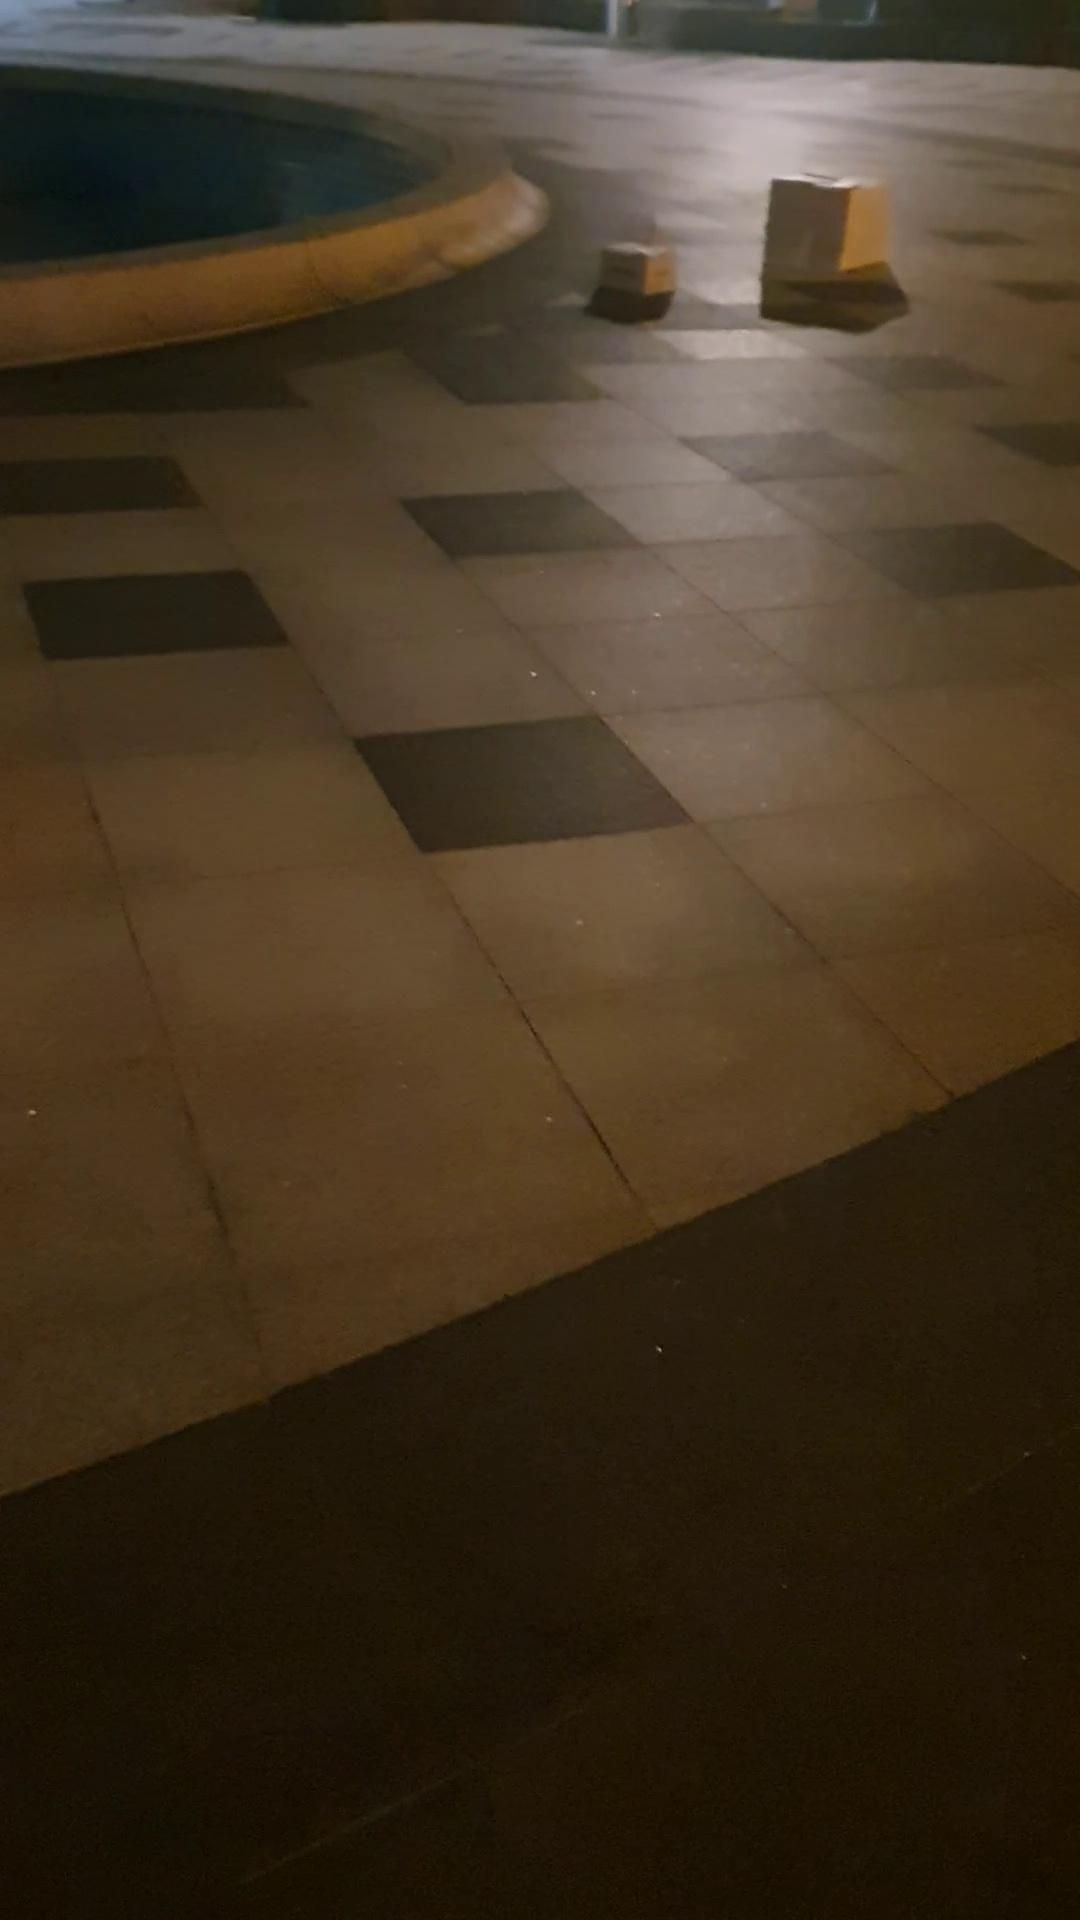Box: (767, 158, 889, 310), (578, 237, 684, 310)
